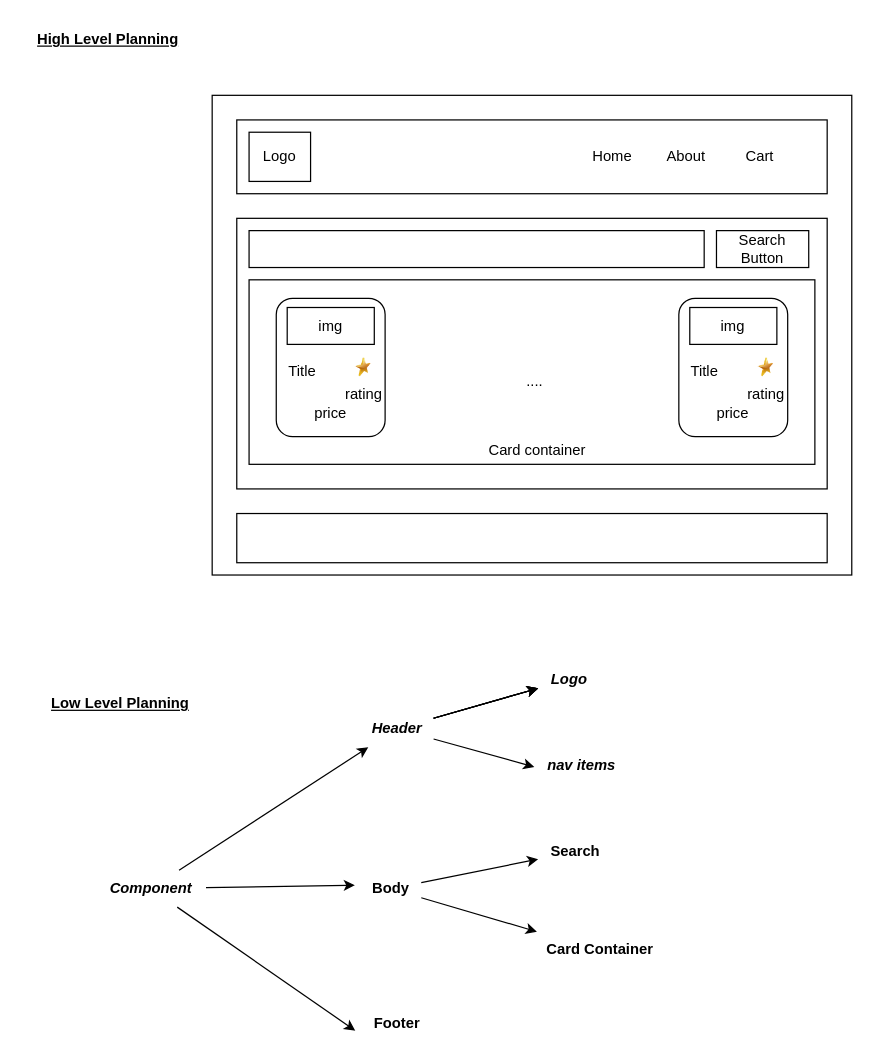
Some shapes in this 873 by 1063 pixel diagram are drawn without their labels. Here are the shapes that lost their labels. From the top down, the centre of each, then its label:
At (x=476, y=248): "Search Bar".
At (x=531, y=537): "links...".
